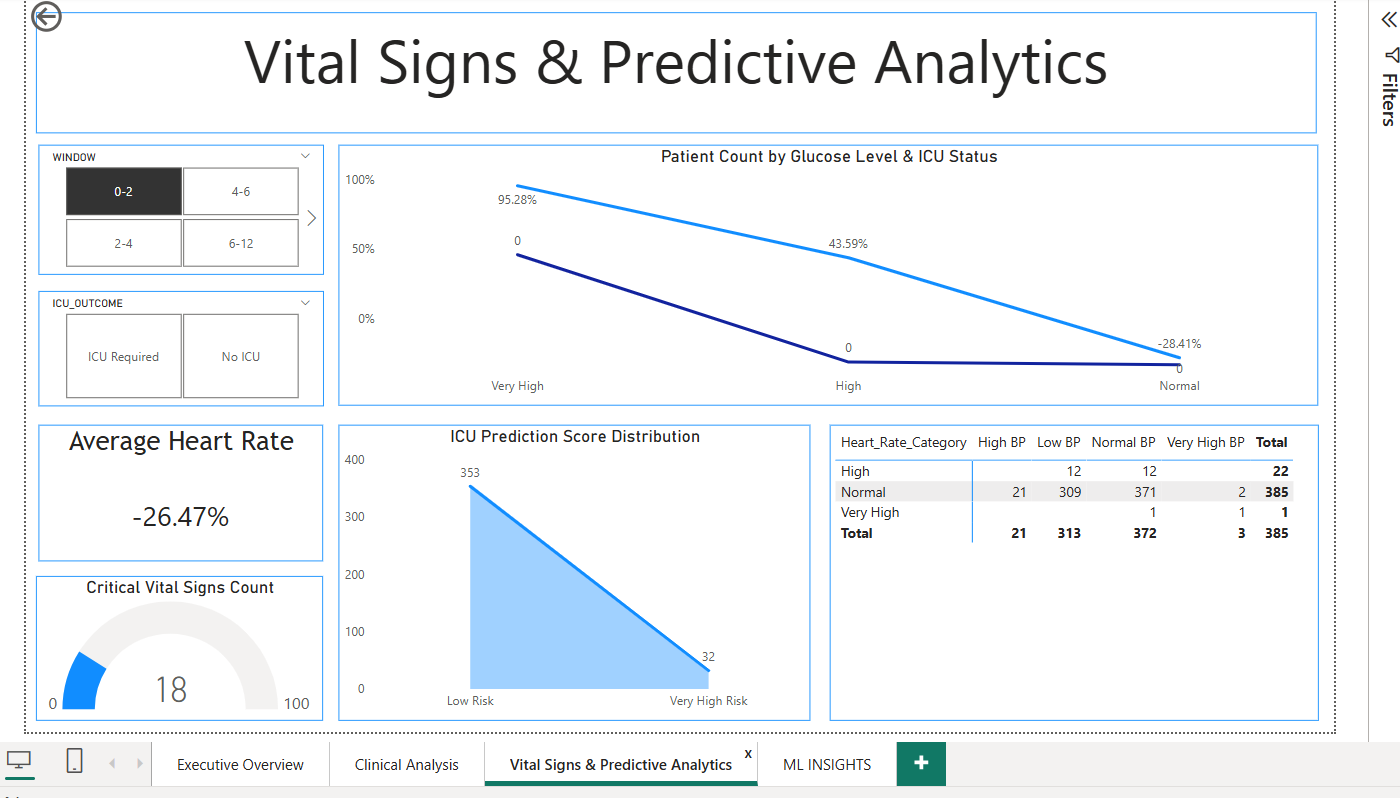

What the dashboard file says about the page in this screenshot:
{"tool":"powerbi","page":{"name":"Vital Signs & Predictive Analytics","canvas":[1280,720],"ordinal":2},"visuals":[{"type":"slicer","fields":{"Values":["Outcome.WINDOW"]},"box":[11.8,145.6,279.4,127.2],"z":0},{"type":"slicer","fields":{"Values":["Outcome.ICU_OUTCOME"]},"box":[11.8,288.6,279.4,112.8],"z":1000},{"type":"gauge","title":"Critical Vital Signs Count","fields":{"Y":["Measure Table_3.Critical_Vitals_Count"]},"box":[9.2,568,280.7,141.7],"z":2000},{"type":"areaChart","title":"ICU Prediction Score Distribution","fields":{"Category":["Outcome.Risk_Level"],"Y":["Measure Table_1.Total_Patients"]},"box":[305.6,419.8,461.7,289.9],"z":3000},{"type":"pivotTable","title":"ICU Patients Condition by Risk_Category","fields":{"Columns":["Vital_Signs.BP_Category"],"Values":["Measure Table_1.Total_Patients"],"Rows":["Vital_Signs.Heart_Rate_Category"]},"box":[785.7,419.8,478.8,289.9],"z":4000},{"type":"lineChart","title":"Patient Count by Glucose Level & ICU Status","fields":{"Y":["Measure Table_3.Avg_Heart_Rate","Measure Table_3.Avg_Blood_Pressure"],"Category":["Vital_Signs.Heart_Rate_Category"]},"box":[305.7,145.5,958.7,255.6],"z":5000},{"type":"textbox","box":[9.2,15.7,1252.7,118.1],"z":6000},{"type":"actionButton","box":[0,0,100,40],"z":7000},{"type":"textbox","title":"Average Heart Rate","box":[11.8,419.8,278.1,133.8],"z":8000}]}

Visuals, with their boxes on the page's 1280x720 design canvas (x1, y1, x2, y2). These are canvas units, not pixel positions in the 1400x798 screenshot, which may show the page scaled, cropped or inside an application window:
slicer - Outcome.WINDOW: {"left": 12, "top": 146, "right": 291, "bottom": 273}
slicer - Outcome.ICU_OUTCOME: {"left": 12, "top": 289, "right": 291, "bottom": 401}
"Critical Vital Signs Count" gauge: {"left": 9, "top": 568, "right": 290, "bottom": 710}
"ICU Prediction Score Distribution" areaChart: {"left": 306, "top": 420, "right": 767, "bottom": 710}
"ICU Patients Condition by Risk_Category" pivotTable: {"left": 786, "top": 420, "right": 1264, "bottom": 710}
"Patient Count by Glucose Level & ICU Status" lineChart: {"left": 306, "top": 146, "right": 1264, "bottom": 401}
textbox: {"left": 9, "top": 16, "right": 1262, "bottom": 134}
actionButton: {"left": 0, "top": 0, "right": 100, "bottom": 40}
"Average Heart Rate" textbox: {"left": 12, "top": 420, "right": 290, "bottom": 554}
